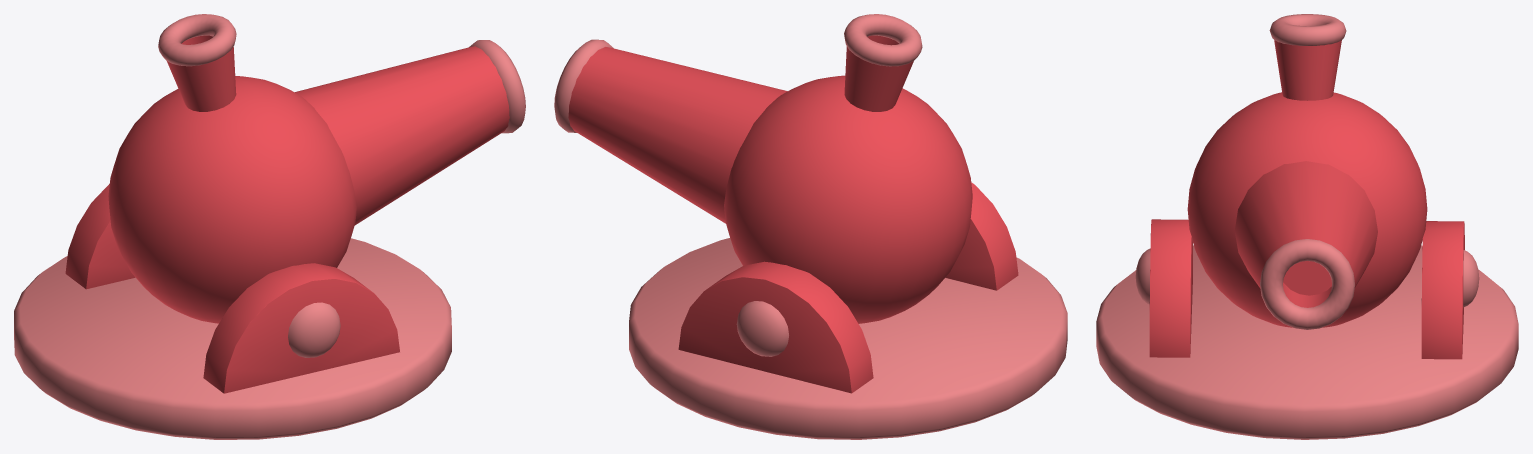
The model's file is pushka.fbx.
3 renders of one model, left to right at view 1: azimuth 30°, elevation 25°; view 2: azimuth 150°, elevation 25°; view 3: azimuth 270°, elevation 25°, orthographic. The views are drawn at different scales.
Visible parts, largest first — view 1: stvol, platforma, kolesa; view 2: stvol, platforma, kolesa; view 3: stvol, platforma, kolesa.
Part boxes in pixels (x1=…): stvol: x1=108, y1=14, x2=525, y2=323; platforma: x1=14, y1=238, x2=451, y2=439; kolesa: x1=65, y1=184, x2=399, y2=393; stvol: x1=554, y1=14, x2=972, y2=323; platforma: x1=629, y1=238, x2=1067, y2=439; kolesa: x1=678, y1=182, x2=1018, y2=393; stvol: x1=1187, y1=14, x2=1427, y2=329; platforma: x1=1096, y1=245, x2=1518, y2=439; kolesa: x1=1135, y1=219, x2=1479, y2=359.
Bounding box in the file's own units: 346 × 236 × 281.
